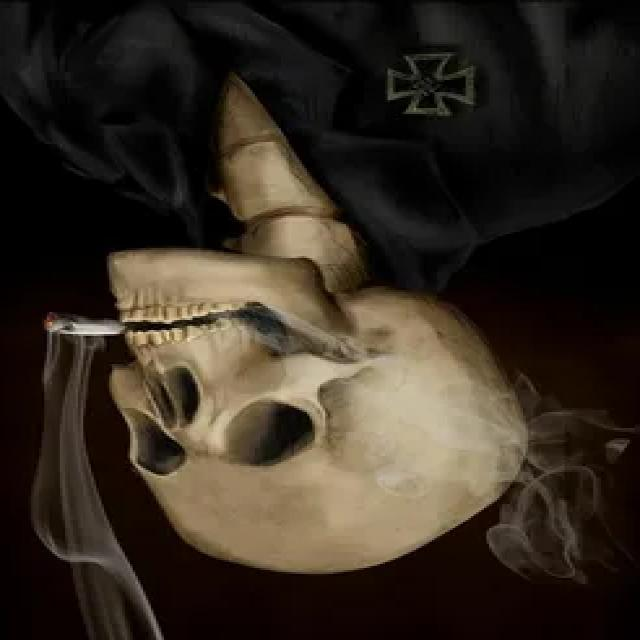skull: (83, 243, 533, 576)
